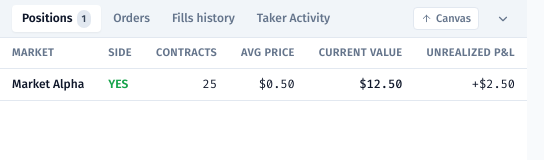
Test: PositionsBar › has accessible collapse and expand control
The width and height of the screenshot is (544, 160).
Click the button named "collapse positions bar" at [503, 18], box [491,6,515,30]
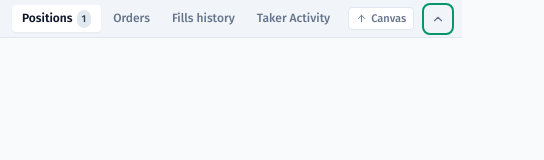
Check: the button named "expand positions bar" is shown, box [426,6,450,30]
